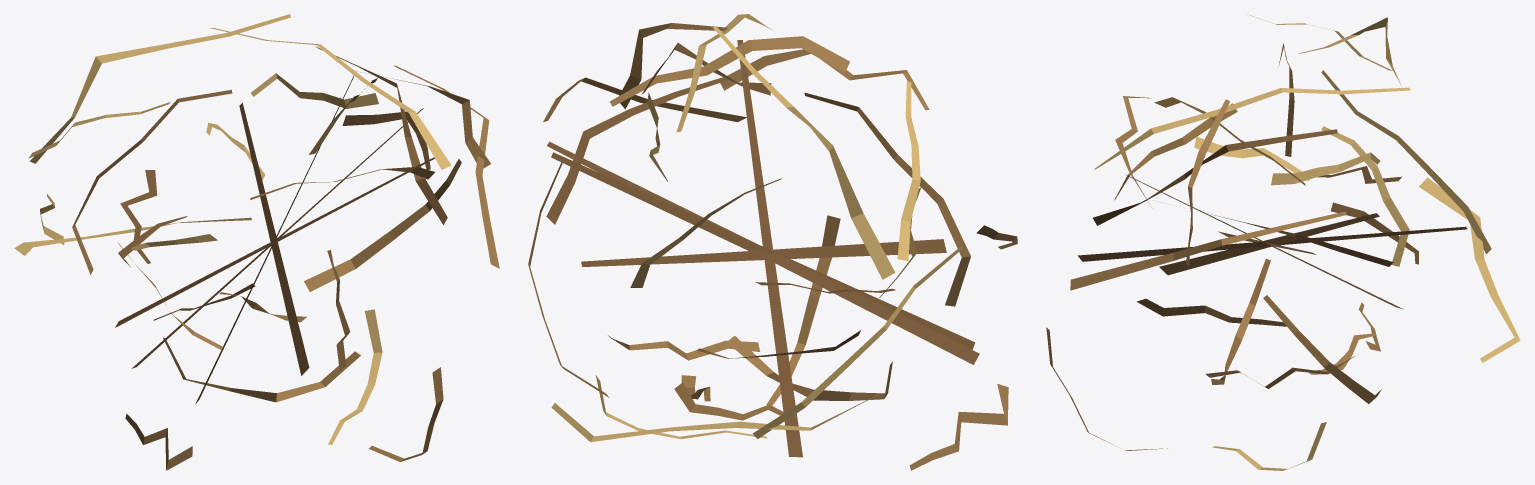
Rendered from tumbleweed_small.fbx.
3 views of the same model, side by side, from view 1: azimuth 30°, elevation 25°; view 2: azimuth 150°, elevation 25°; view 3: azimuth 270°, elevation 25° (orthographic). The views are drawn at different scales.
Visible parts, largest first — view 1: tumbleweed_small; view 2: tumbleweed_small; view 3: tumbleweed_small.
Boxes of the visible parts, x1,y1,x2,y2 form: tumbleweed_small: (14,14,499,470); tumbleweed_small: (528,14,1017,470); tumbleweed_small: (1046,14,1520,470).
Bounding box in the file's own units: 41.81 × 40.45 × 43.96.
